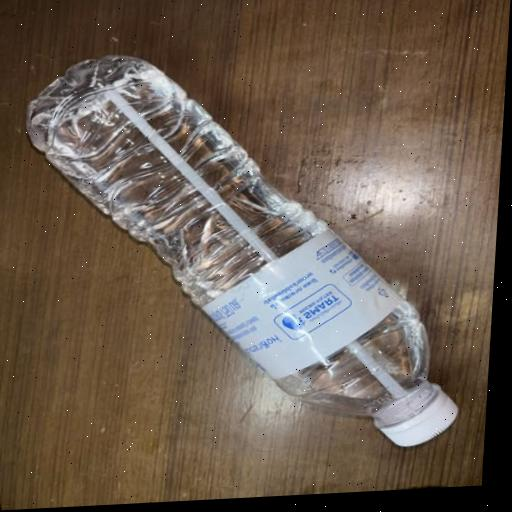bottle: (0, 26, 489, 485)
